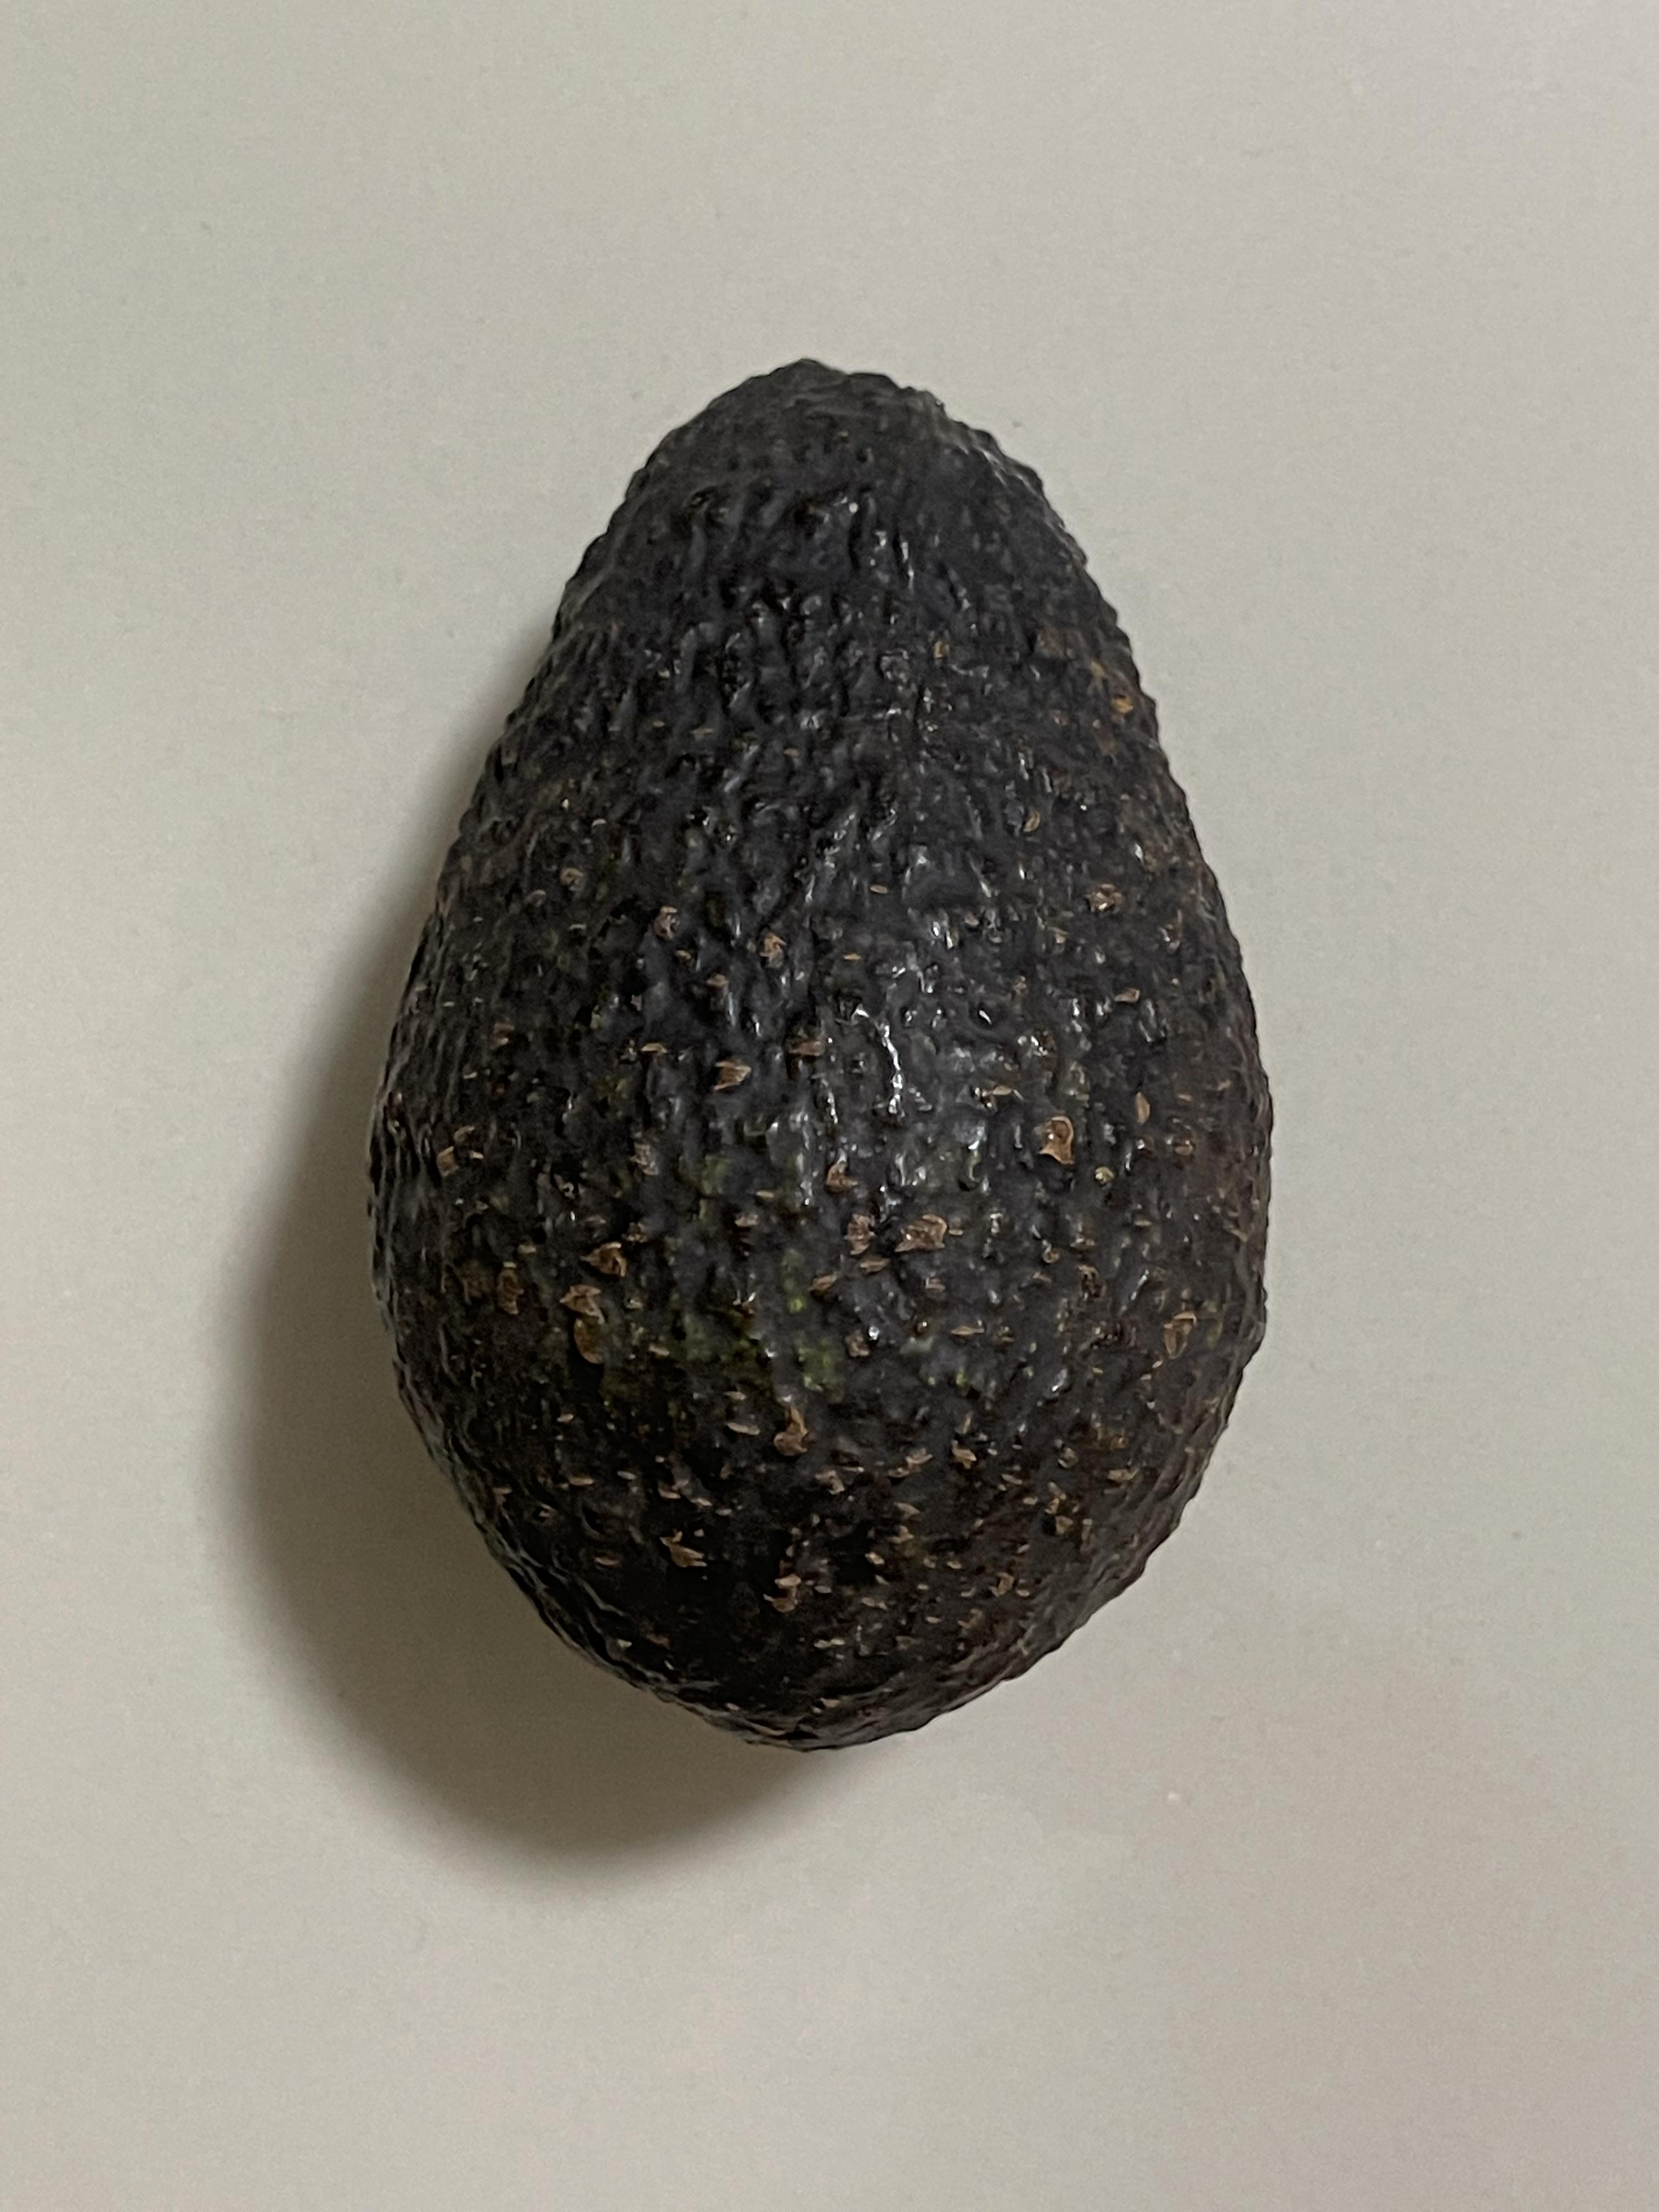Level2: (345, 329, 1300, 1770)
